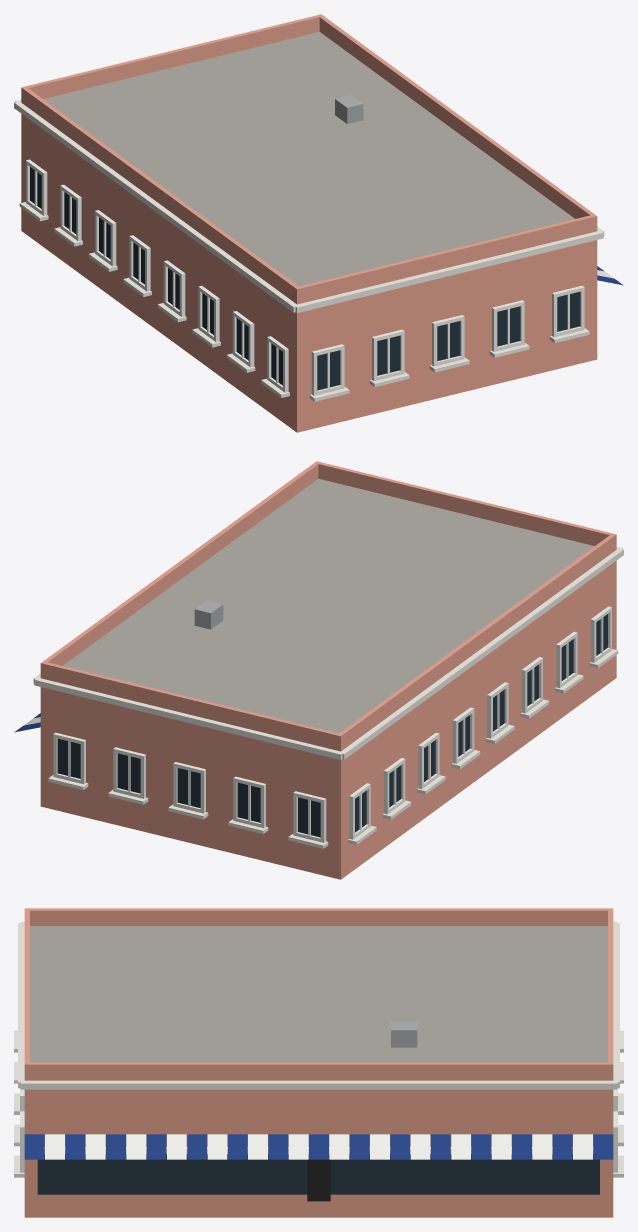
The picture shows the model from 3 angles, top to bottom: view 1: azimuth 30°, elevation 25°; view 2: azimuth 150°, elevation 25°; view 3: azimuth 270°, elevation 25°; orthographic projection. The views are drawn at different scales.
Visible parts, largest first — view 1: b795; view 2: b795; view 3: b795.
Boxes of the visible parts, <box> form: b795: <box>14,14,623,432</box>; b795: <box>14,461,623,879</box>; b795: <box>14,908,623,1217</box>.
Size of the model in its own units: 6246 by 2581 by 9214.
